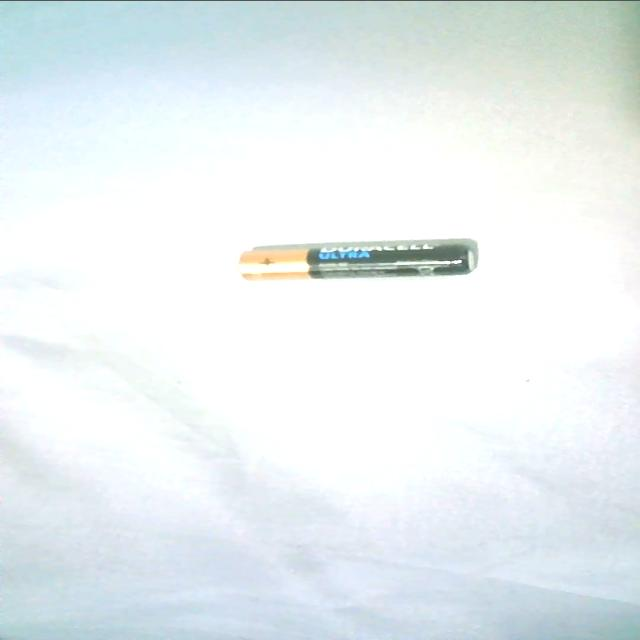AAA: (230, 235, 491, 285)
